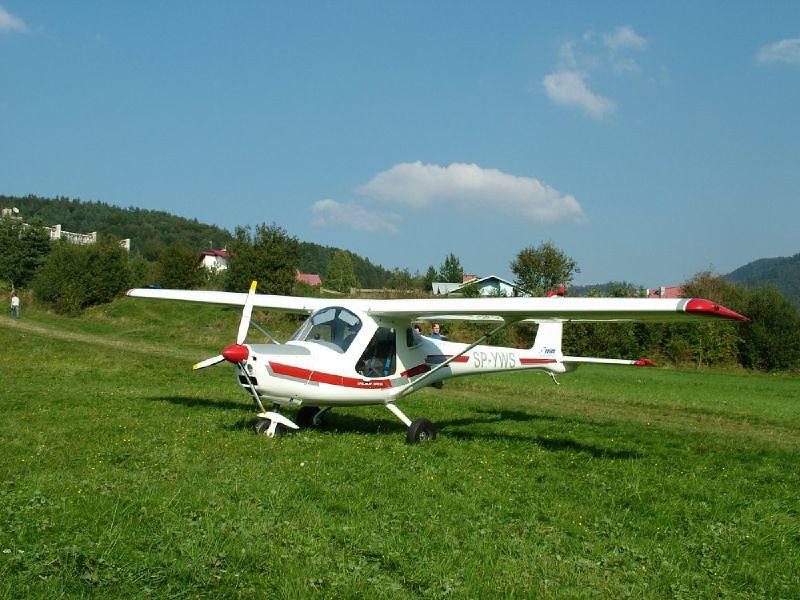plane: (125, 280, 751, 445)
